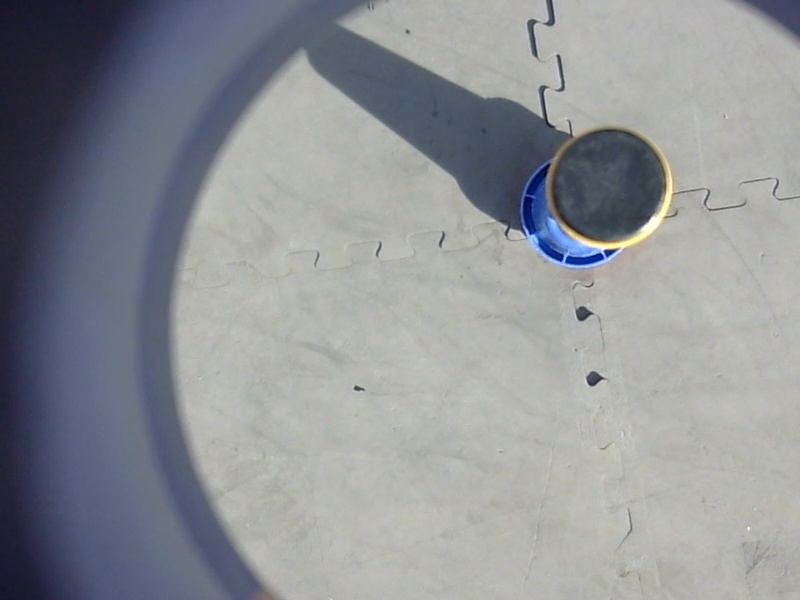tip: (538, 121, 677, 259)
